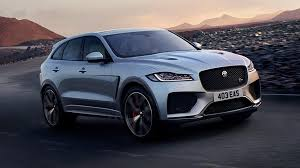car: (28, 25, 272, 143)
